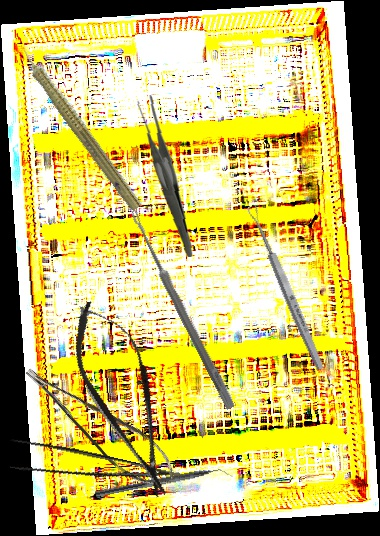Chopper: (94, 462, 234, 507)
Dressing Forceps: (131, 94, 199, 258)
Handpiece: (6, 31, 150, 214)
Micro Scissor: (56, 290, 193, 508), (21, 343, 184, 503)
Surgical Spoon: (127, 208, 237, 411), (245, 203, 327, 372)
Tissue Forceps: (4, 433, 181, 506)
